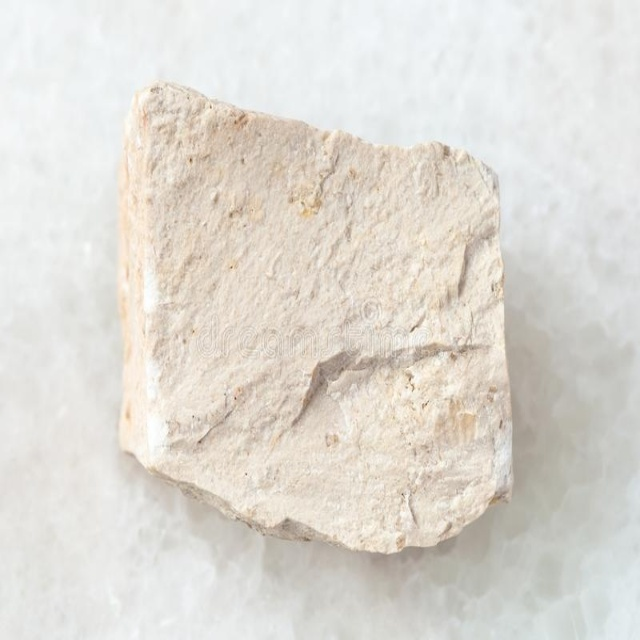obstacle: (120, 83, 511, 551)
